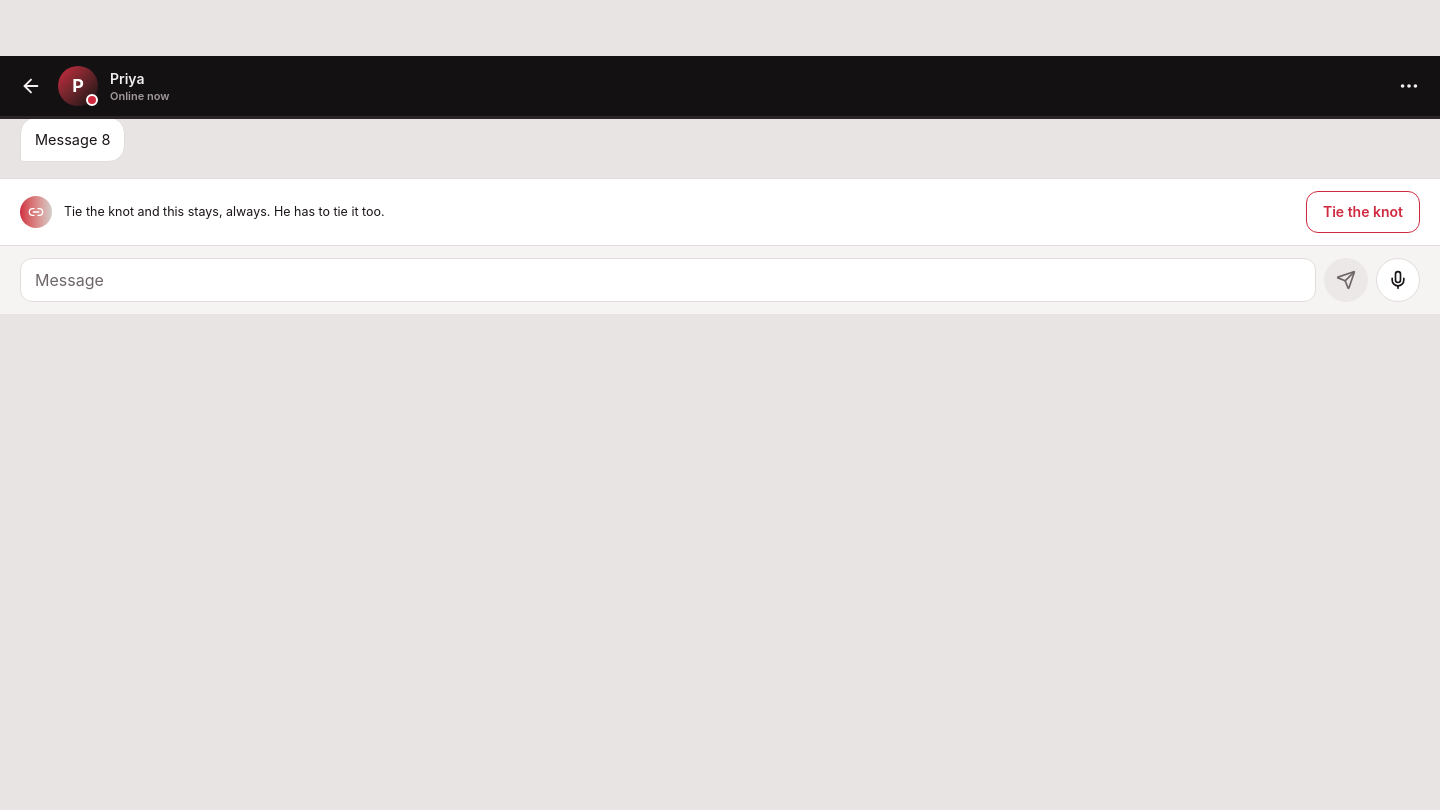
Test: the knot (T-7.7, P-670) › celebrates the second tap for a female, in their words
This screenshot has width=1440, height=810.
Click the button "Tie the knot".
click(1363, 212)  # box left=1306, top=192, right=1420, bottom=233
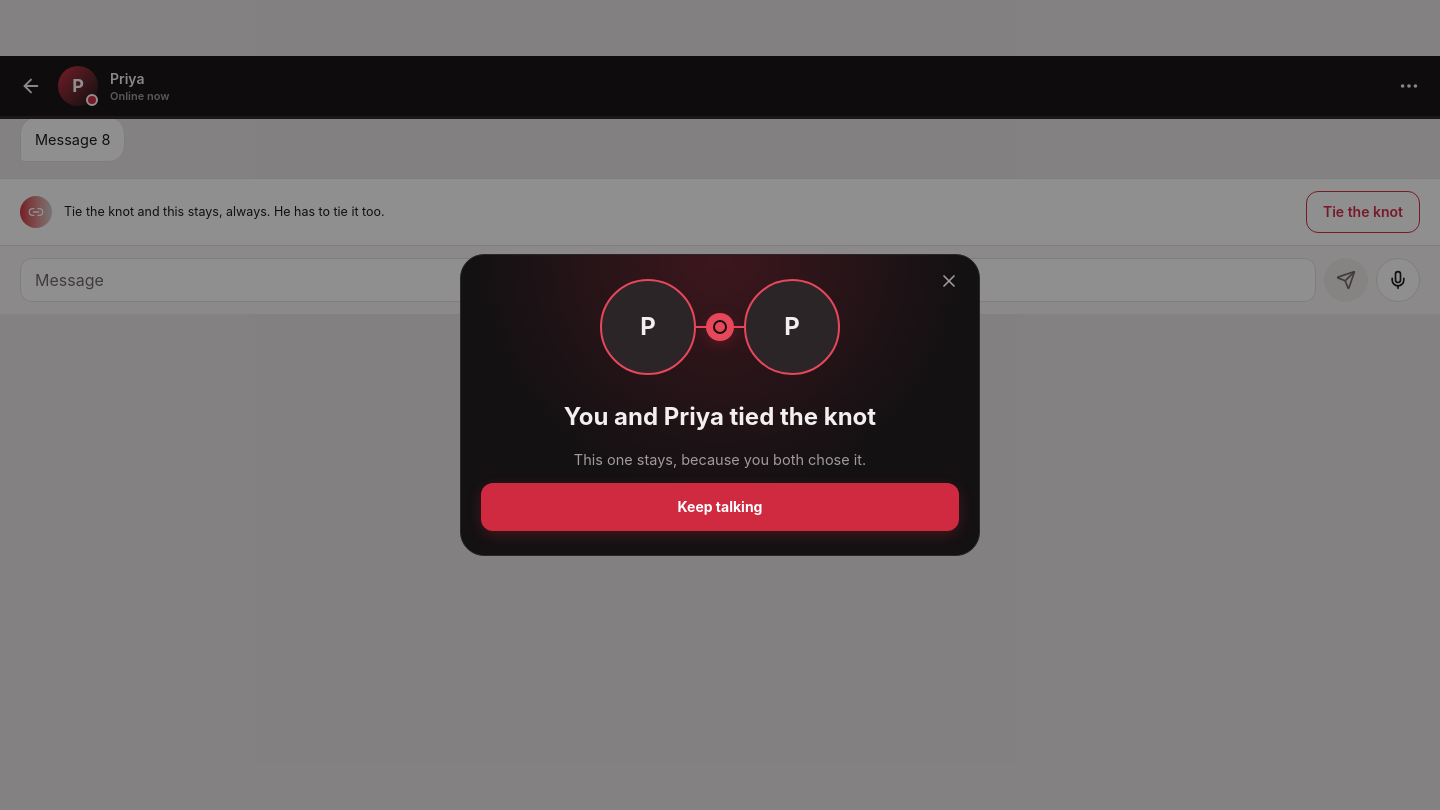
Now the text "This one stays, because you both chose it." is shown, box left=574, top=451, right=866, bottom=468
Click the button "Keep talking".
click(720, 507)  # box left=481, top=483, right=959, bottom=531
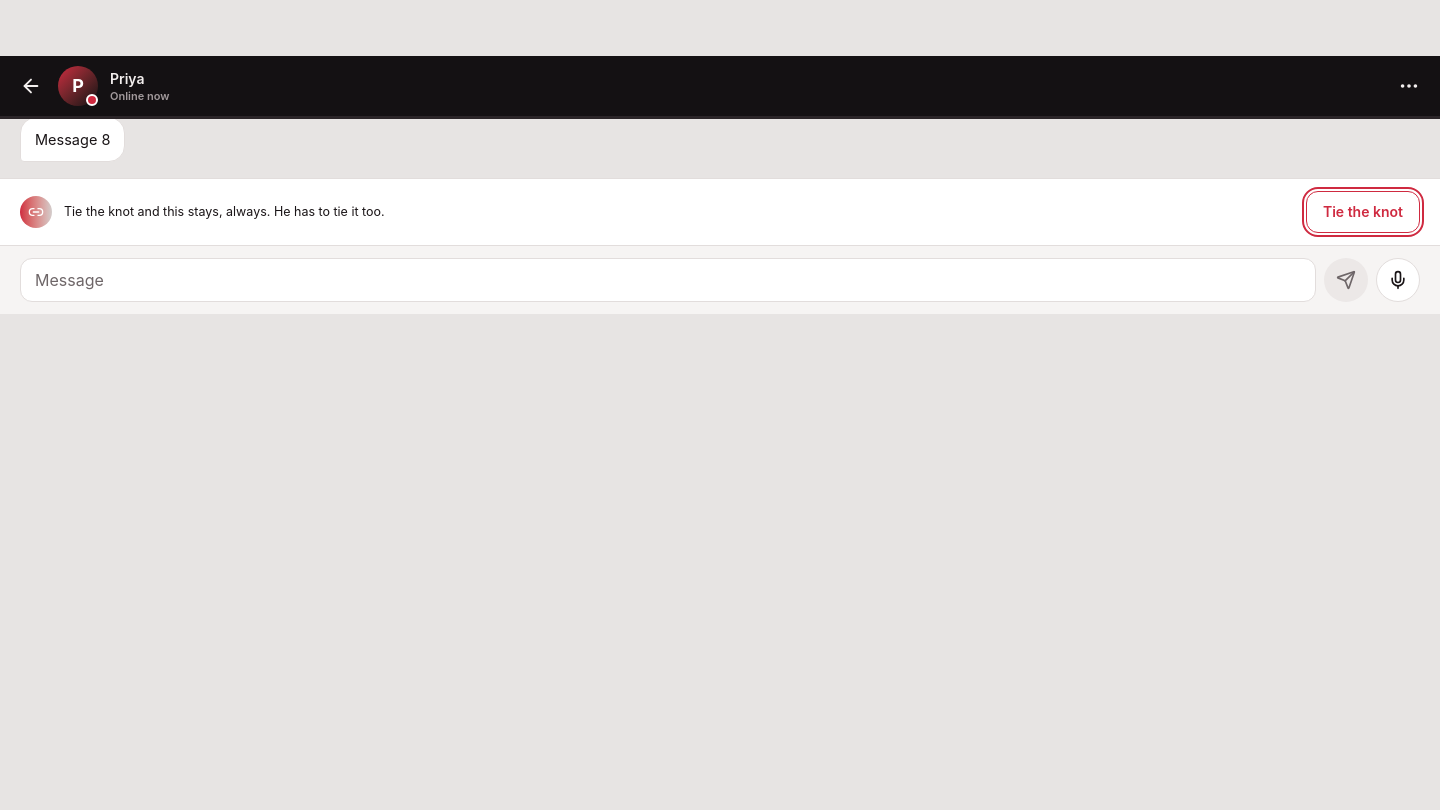
Now the dialog is gone
